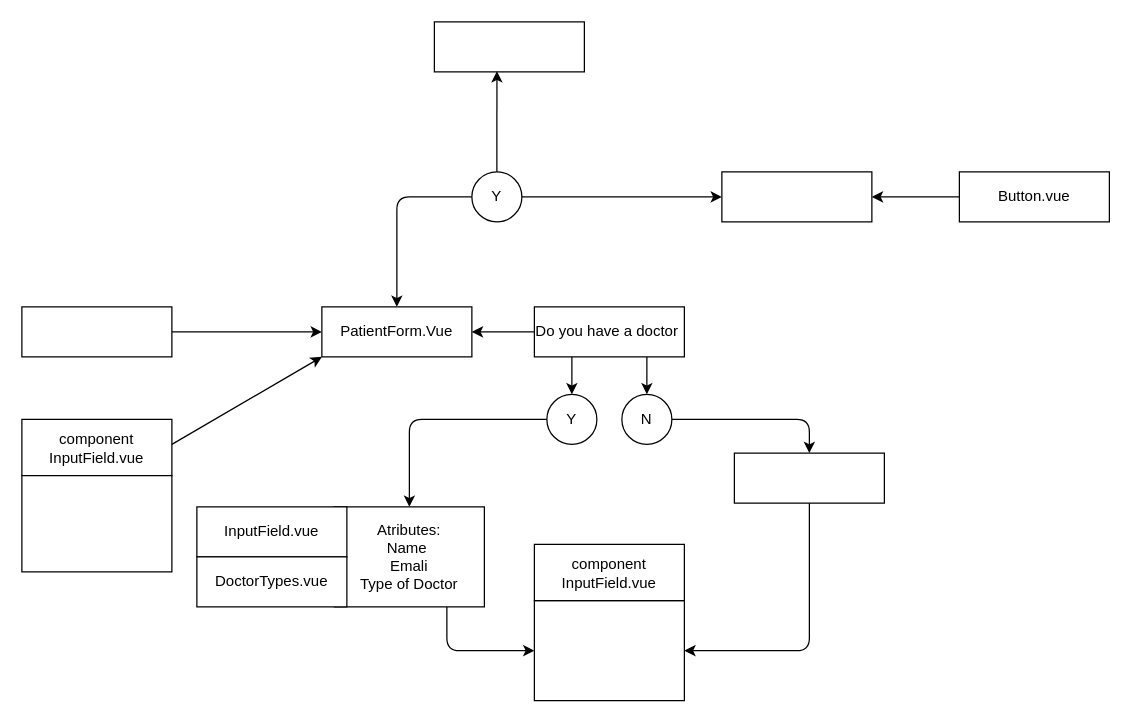
This 1131x723 diagram has some shape labels left out. The centre of each missing label's shape, as x and y in pixels:
"App.Vue" goes at point 508,46.
"Chose Type of doctor" goes at point 808,477.
"email name lastname age" goes at point 96,523.
"FormTitle.Vue" goes at point 96,331.
"Summary.vue" goes at point 796,196.
"When Pain Start Pain Area Duration Swelnws/Bruise" goes at point 608,650.
